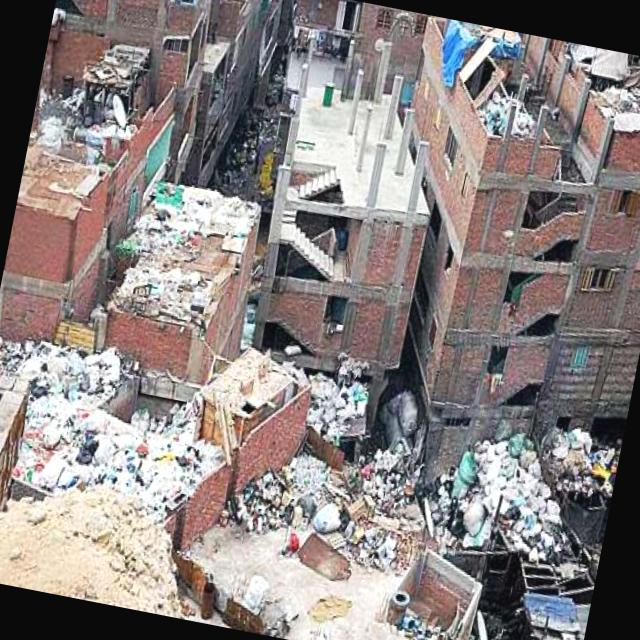garbage: (429, 404, 623, 567), (230, 420, 433, 574), (14, 396, 218, 520), (0, 321, 129, 412), (297, 356, 387, 442)
